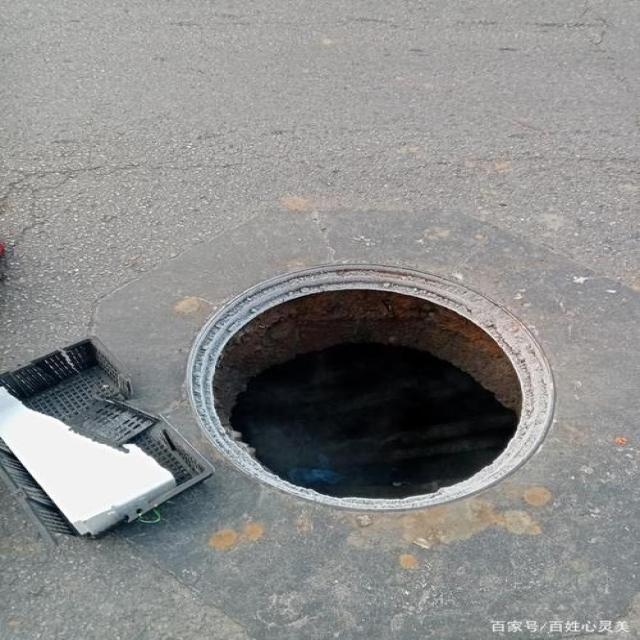hole: (211, 286, 522, 501)
